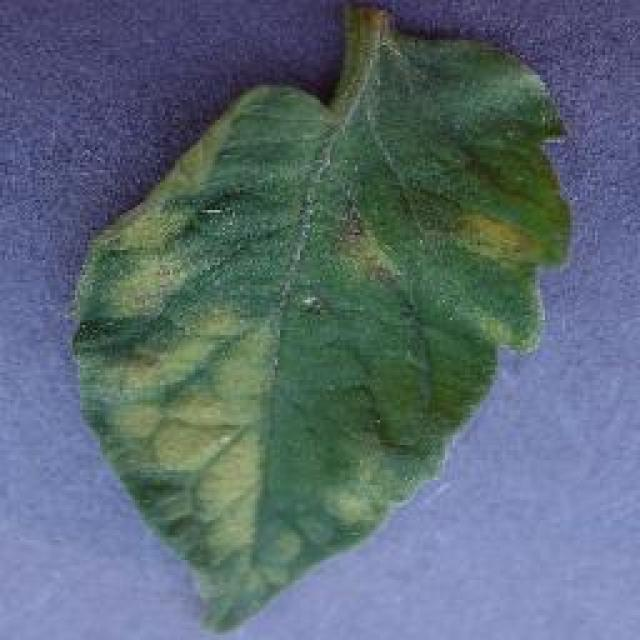Tomato___Leaf_Mold: (75, 8, 568, 628)
